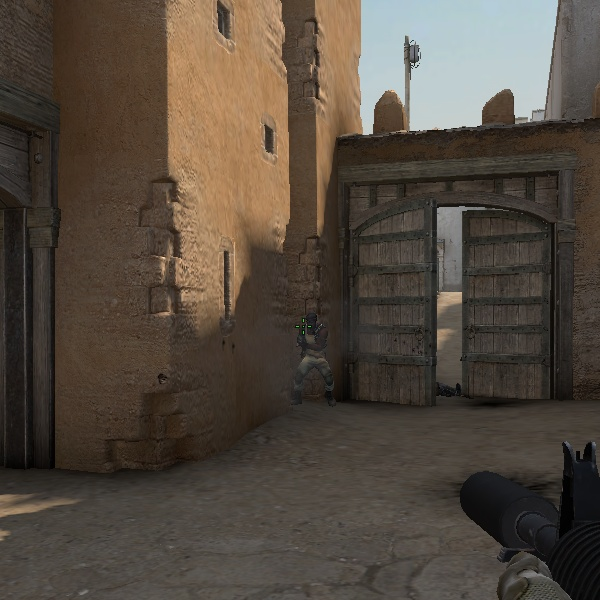t_body: (290, 312, 335, 408)
t_head: (305, 312, 319, 332)
